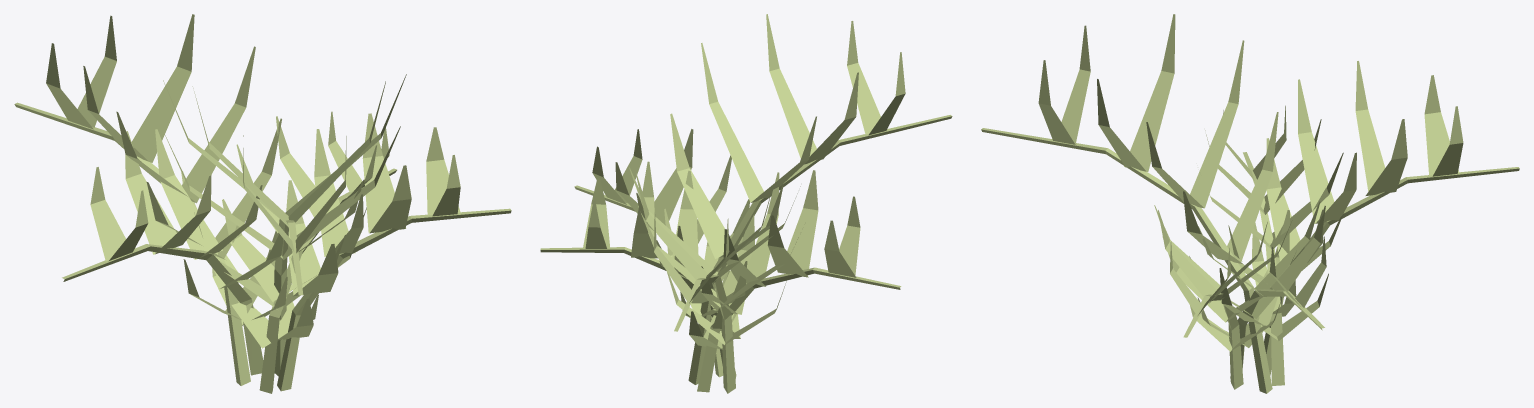
File: fern-lady.glb
3 views of the same model, side by side, from view 1: azimuth 30°, elevation 25°; view 2: azimuth 150°, elevation 25°; view 3: azimuth 270°, elevation 25° (orthographic). The views are drawn at different scales.
Parts seen in each view (by area): view 1: fern-lady; view 2: fern-lady; view 3: fern-lady.
Part boxes in pixels (left/top/right/bottom): fern-lady: left=14, top=14, right=511, bottom=393; fern-lady: left=540, top=14, right=952, bottom=393; fern-lady: left=981, top=14, right=1519, bottom=393.
Bounding box in the file's own units: 0.779 × 0.6464 × 0.9908.
